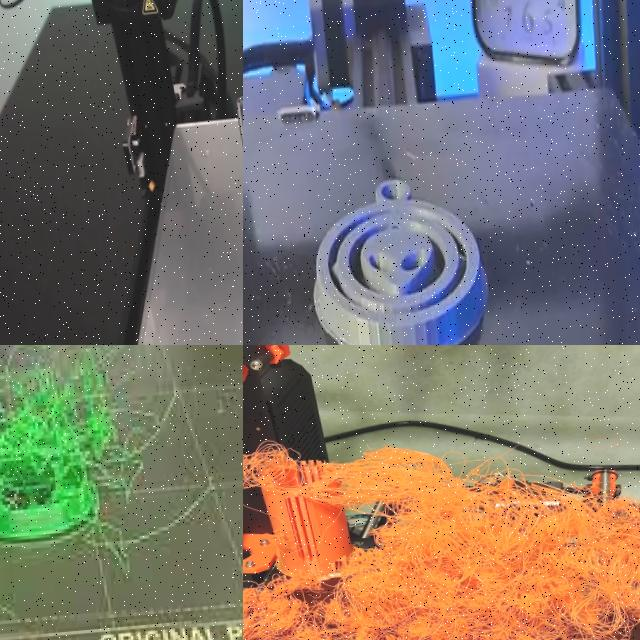spaghetti: (243, 432, 640, 640), (0, 350, 141, 546)
